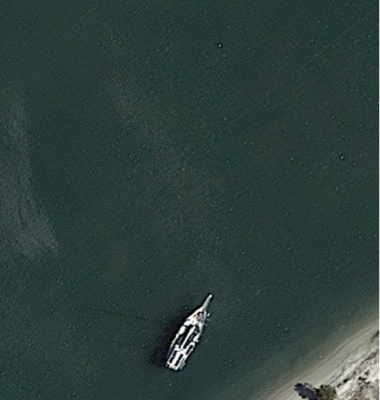boat: (163, 291, 214, 375)
